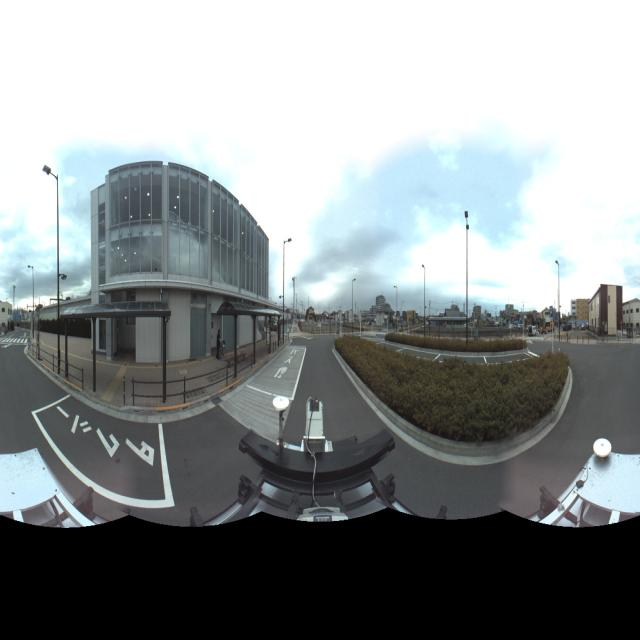b_1: (85, 156, 272, 356), (583, 276, 621, 344), (621, 297, 640, 341), (571, 294, 587, 335)
